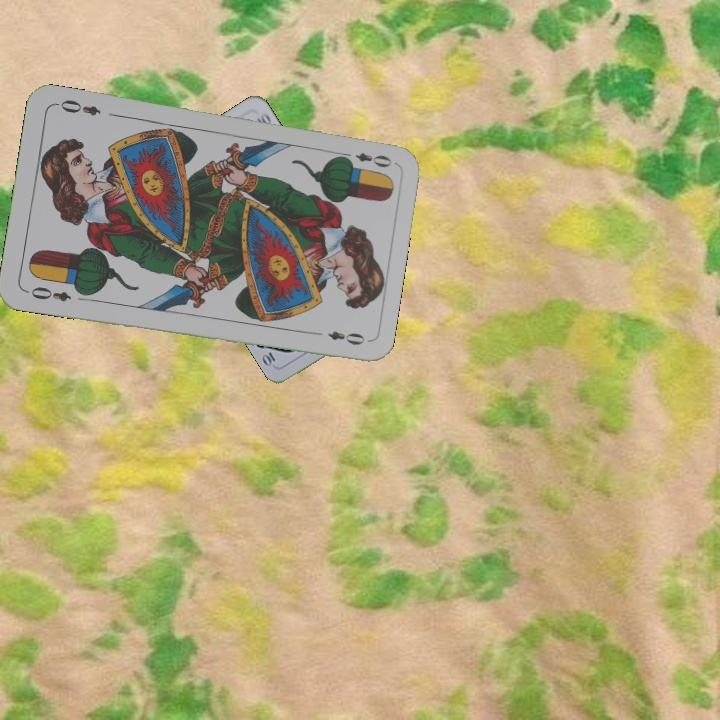EO: (336, 148, 395, 170), (22, 282, 74, 305)
